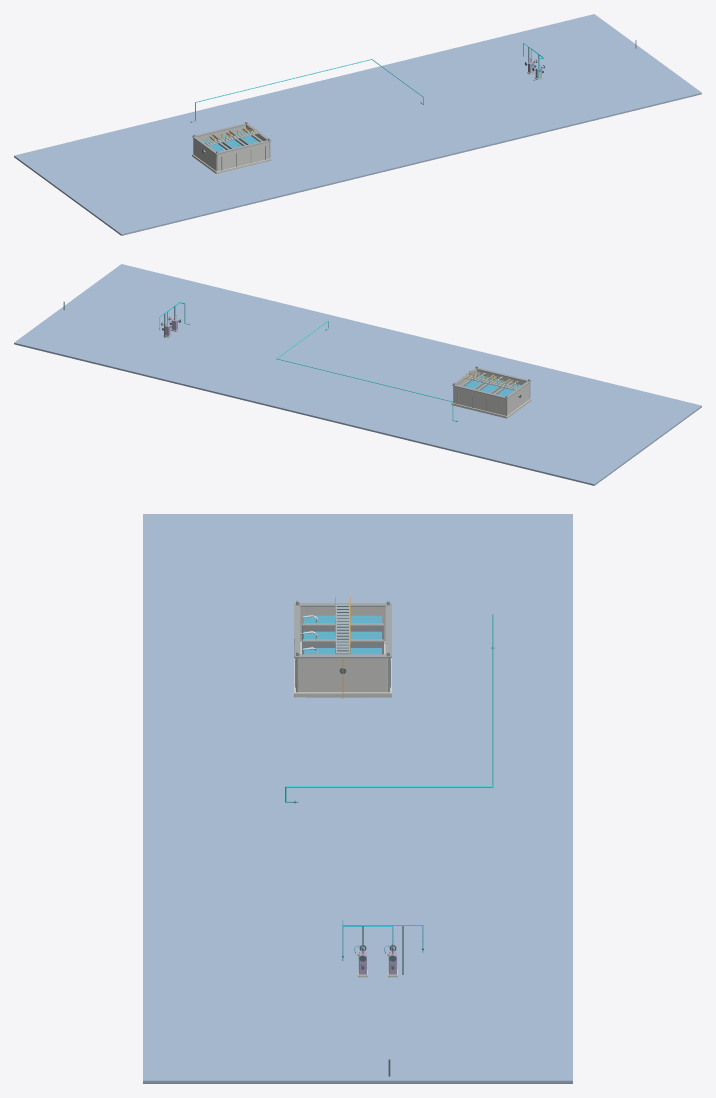
3 renders of one model, top to bottom at view 1: azimuth 30°, elevation 25°; view 2: azimuth 150°, elevation 25°; view 3: azimuth 270°, elevation 25°, orthographic. The views are drawn at different scales.
Parts seen in each view (by area): view 1: render-batch-7, render-batch-11, render-batch-6, render-batch-1, render-batch-4; view 2: render-batch-7, render-batch-11, render-batch-6, render-batch-1, render-batch-4; view 3: render-batch-7, render-batch-11, render-batch-6, render-batch-4.
Boxes of the visible parts, x1,y1,x2,y2 form: render-batch-7: (14,14,701,235); render-batch-11: (192,71,542,173); render-batch-6: (192,121,271,171); render-batch-1: (190,59,423,122); render-batch-4: (202,59,541,151); render-batch-7: (14,264,701,485); render-batch-11: (163,329,531,418); render-batch-6: (452,366,531,415); render-batch-1: (276,320,458,421); render-batch-4: (167,315,521,396); render-batch-7: (143,514,572,1083); render-batch-11: (294,607,397,977); render-batch-6: (294,600,391,692); render-batch-4: (304,615,392,953).
Size of the model in its own units: 134 by 6.74 by 43.
